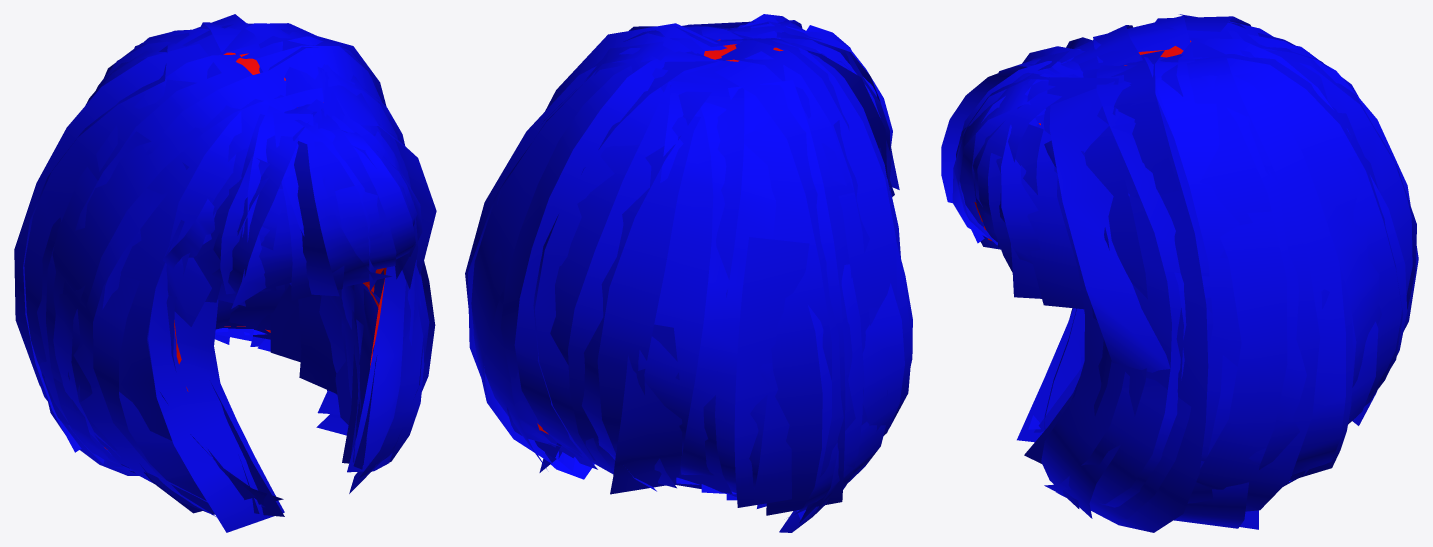
The model's file is hair_005.obj.
The picture shows the model from 3 angles, left to right: view 1: azimuth 30°, elevation 25°; view 2: azimuth 150°, elevation 25°; view 3: azimuth 270°, elevation 25°; orthographic projection. The views are drawn at different scales.
Bounding box in the file's own units: 25.26 × 27.61 × 26.94.
